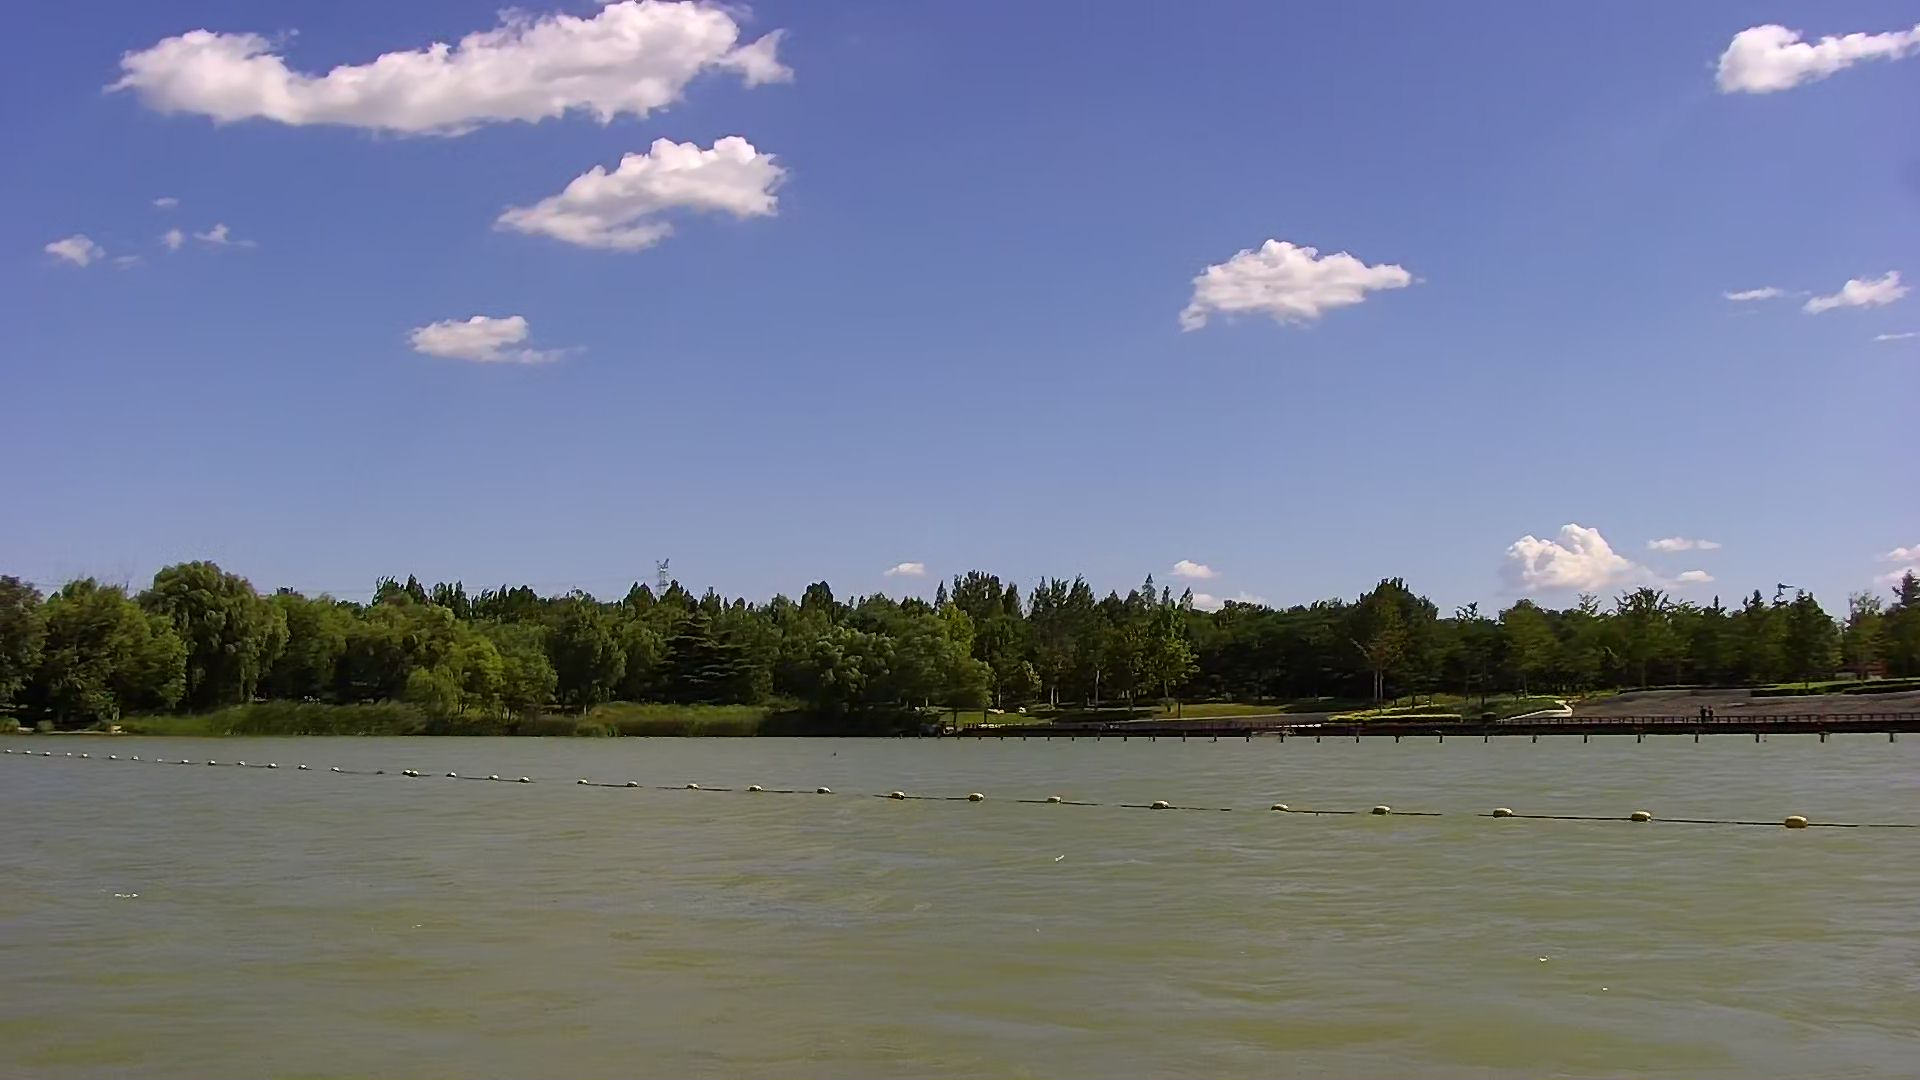ball: (1473, 793, 1545, 828), (1367, 786, 1414, 837), (1139, 786, 1187, 828), (1619, 798, 1667, 836), (1778, 796, 1818, 836), (881, 775, 920, 810), (959, 781, 993, 816)
